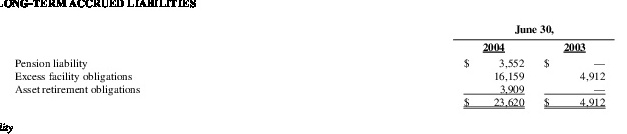table: (0, 0, 627, 134)
